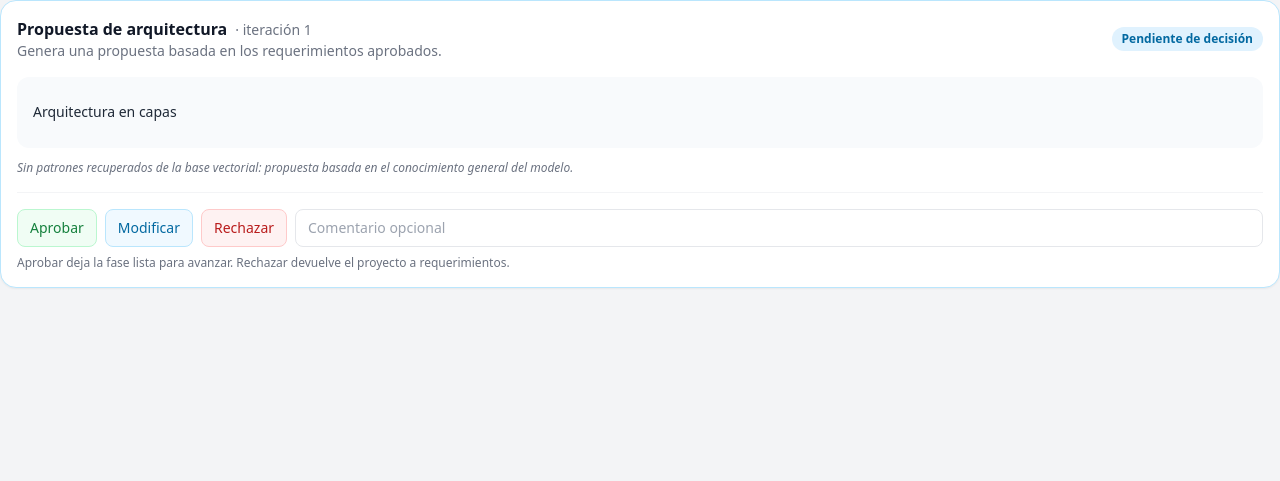
Scenario: ProposalCard › progreso, cancelar y reintentar (F19) › no ofrece reintentar ante un error permanente (p. ej. límite de iteraciones)
The image size is (1280, 481).
Expected: the element with test id "proposal-content" is shown, x1=17 y1=77 x2=1263 y2=148
Click the button with test id "proposal-modify" at (149,228), box x1=105 y1=209 x2=193 y2=247
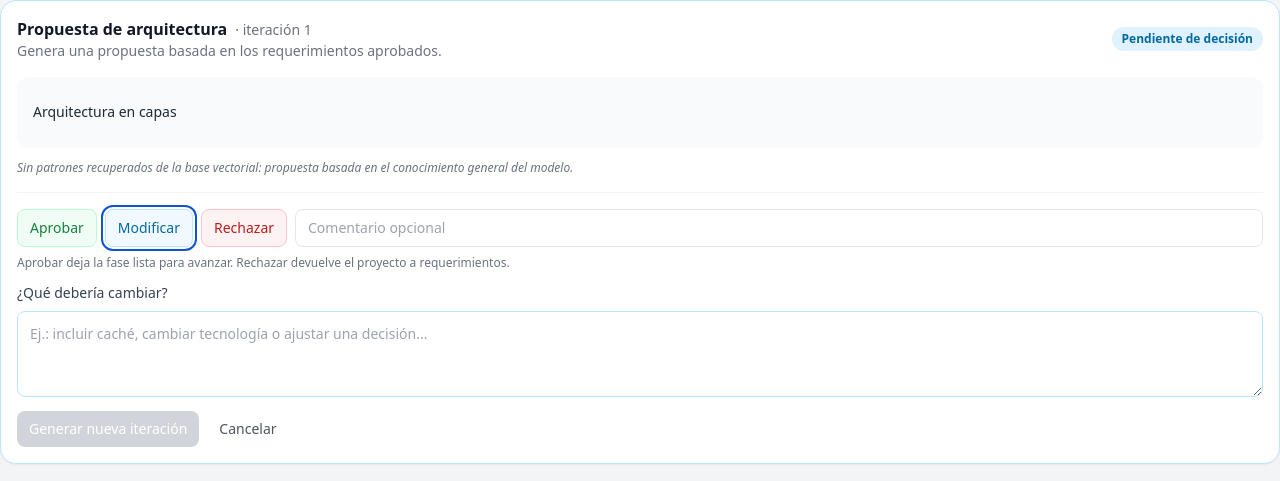
Type "x" into the text box labelled "¿Qué debería cambiar?" at (640,354), box x1=17 y1=311 x2=1263 y2=397
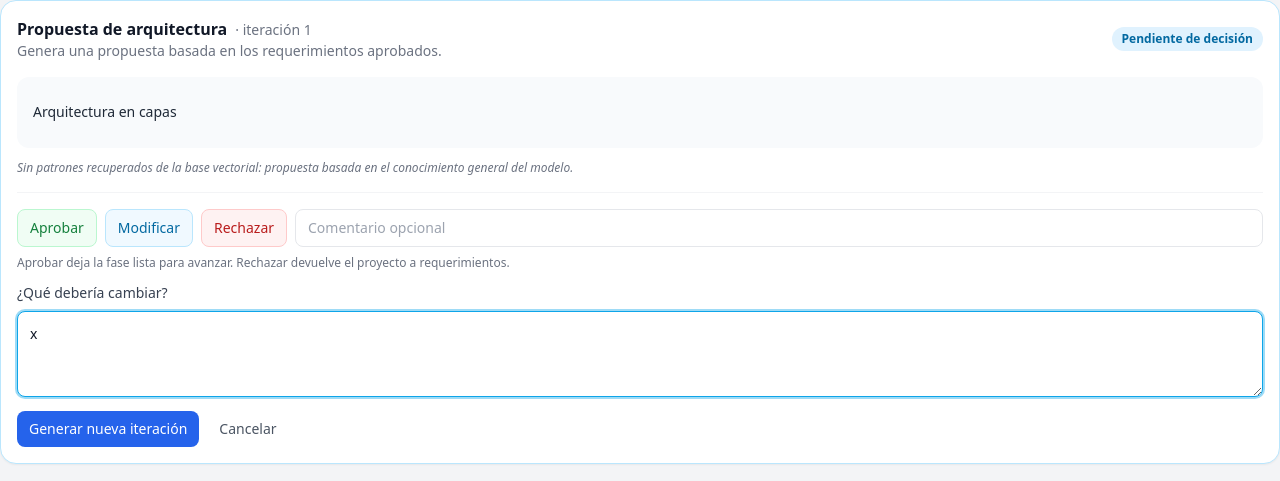
Click the button "Generar nueva iteración" at (108,429), box x1=17 y1=411 x2=199 y2=447
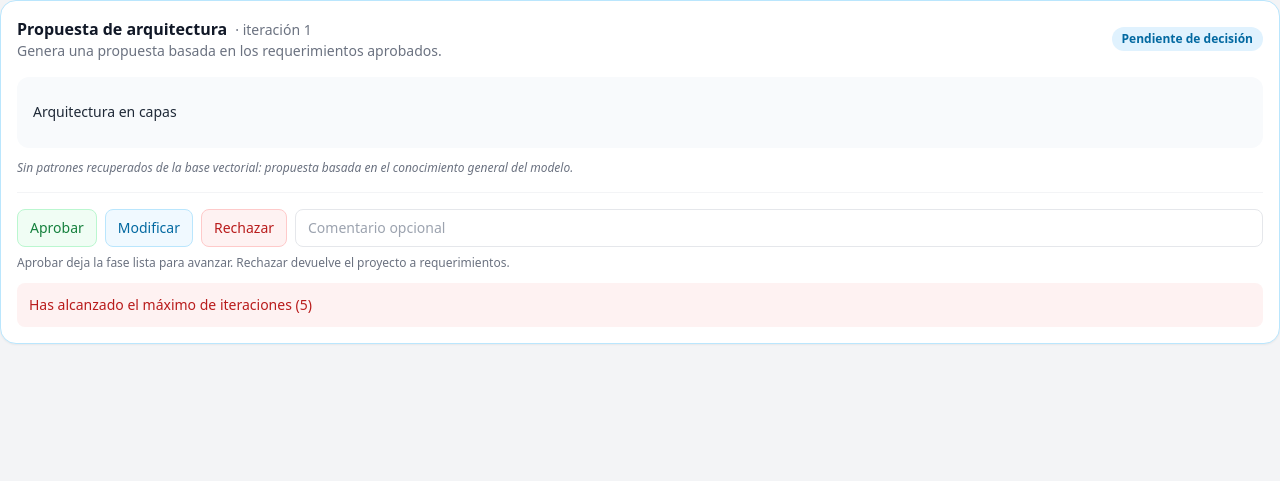
Expected: the message shows "máximo de iteraciones", x1=29 y1=295 x2=312 y2=314
